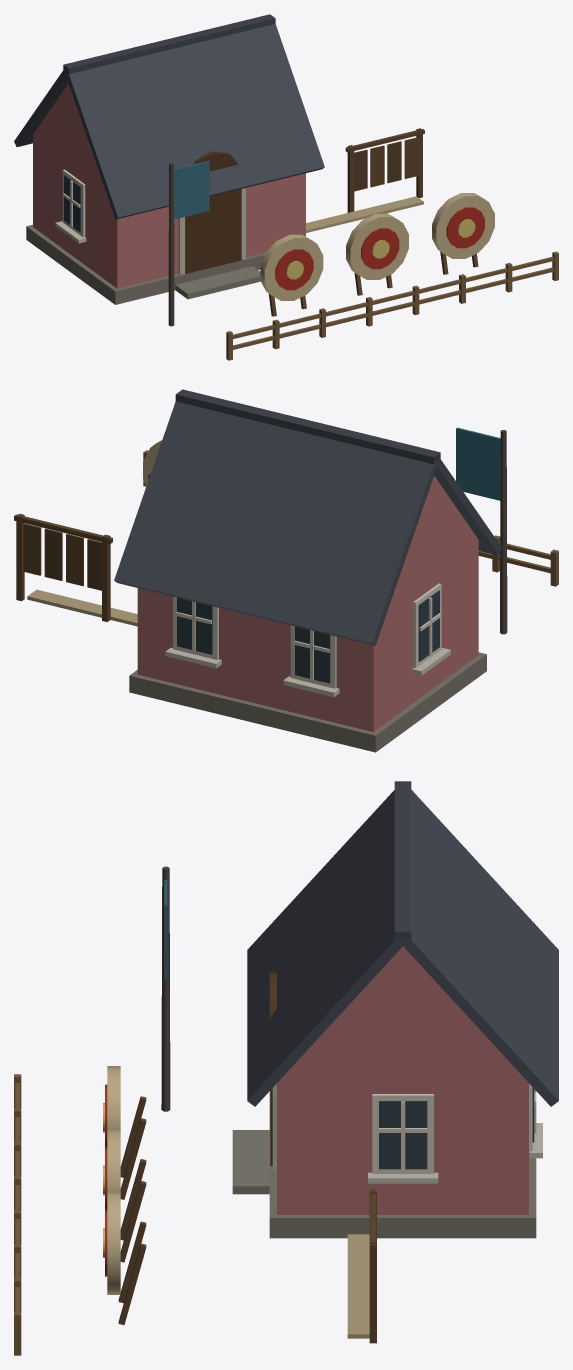
File: procedural_crossbow_range@4.glb
3 views of the same model, one above another, from view 1: azimuth 30°, elevation 25°; view 2: azimuth 150°, elevation 25°; view 3: azimuth 270°, elevation 25° (orthographic). The views are drawn at different scales.
Visible parts, largest first — view 1: part_0; view 2: part_0; view 3: part_0.
Boxes of the visible parts, left/top/right/bottom form: part_0: left=14, top=14, right=558, bottom=360; part_0: left=14, top=389, right=558, bottom=752; part_0: left=14, top=781, right=558, bottom=1355.
Bounding box in the file's own units: 8.46 × 4.65 × 7.35.
